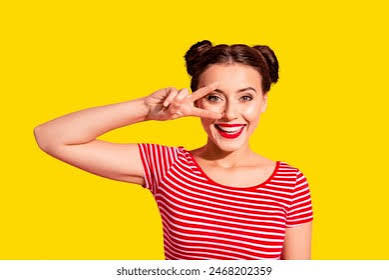peace_sign: (145, 80, 225, 123)
